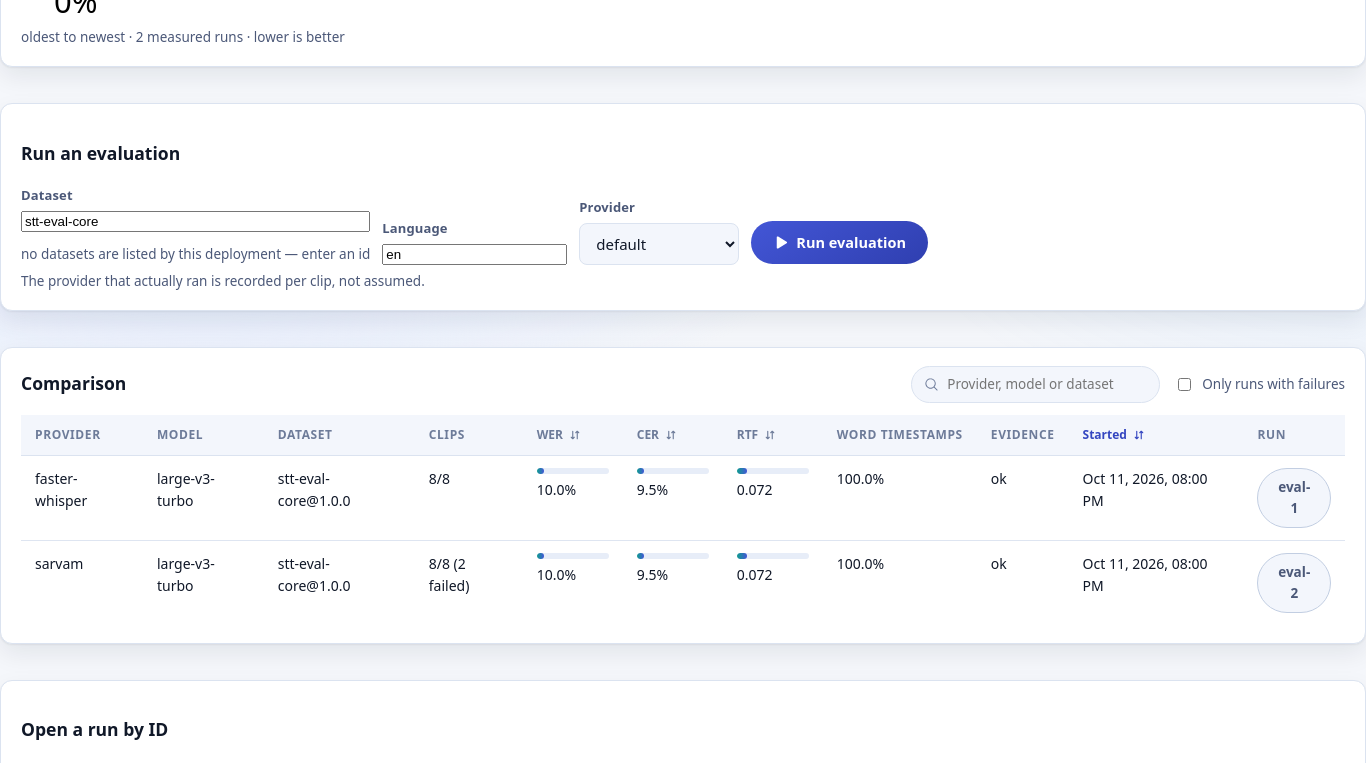
Scenario: can hide everything that did not fail
(page scrolled)
Click the checkbox labelled "Only runs with failures": click(1185, 384) 1178,378 -> 1191,391
(page scrolled)
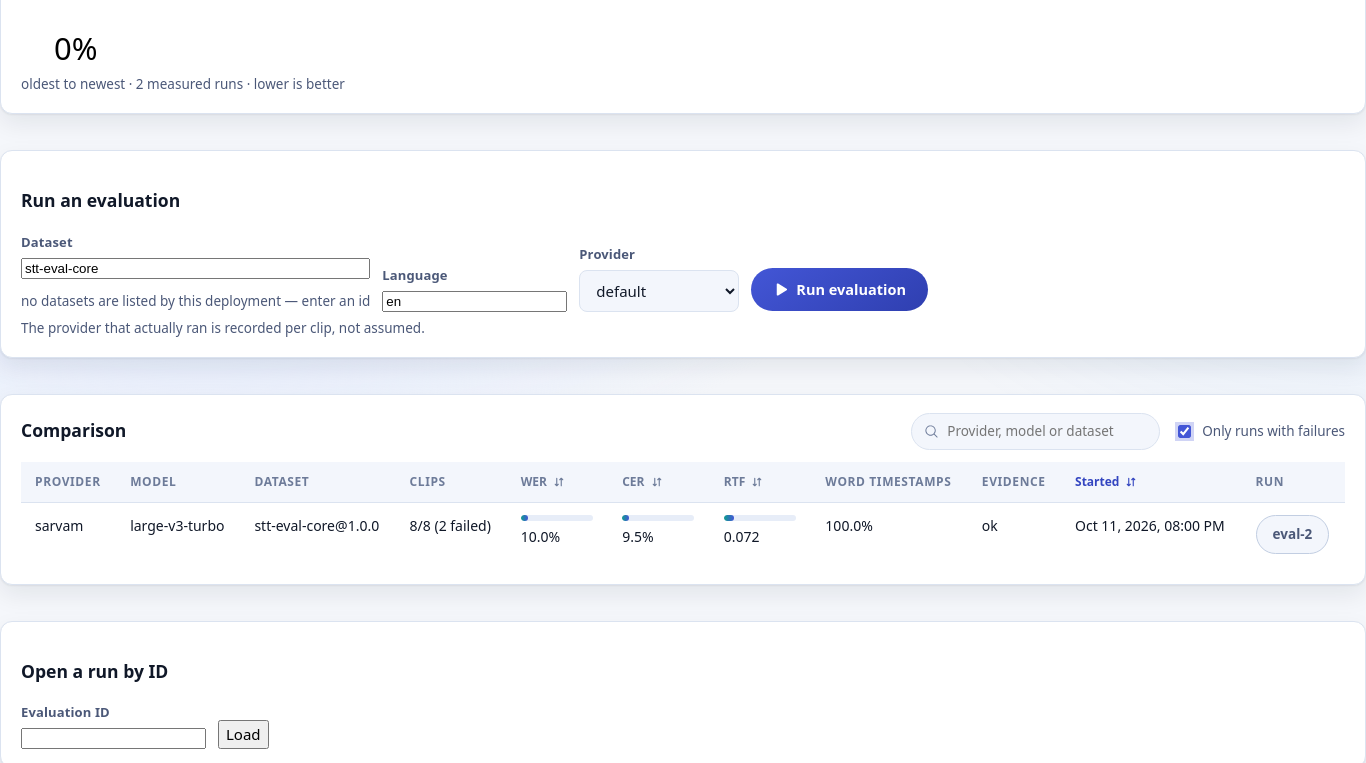
expect the text "sarvam" is shown: met, box 21,503 -> 116,566
expect the number of rows is 2: met, box 21,462 -> 1345,503; 21,503 -> 1345,566
